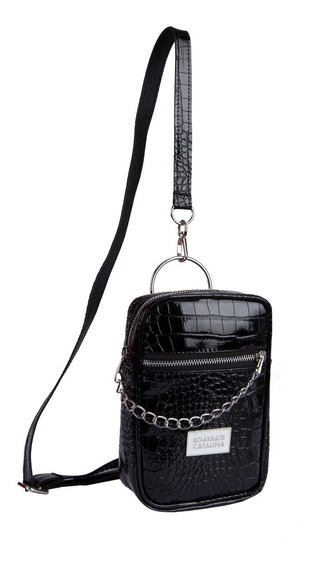cartera: (115, 28, 274, 512)
